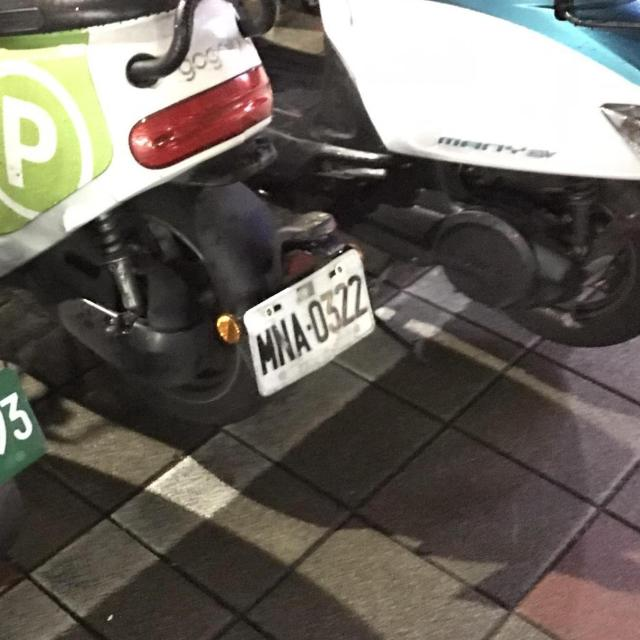W: (234, 240, 393, 403)
